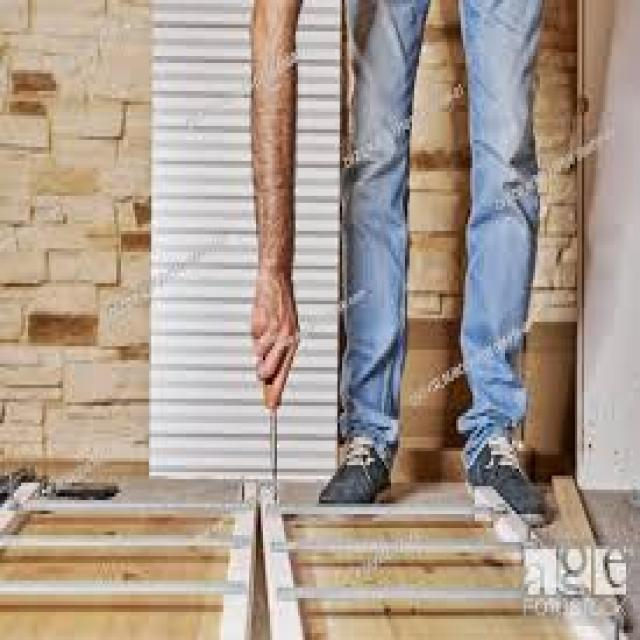screwdriver: (257, 320, 292, 502)
